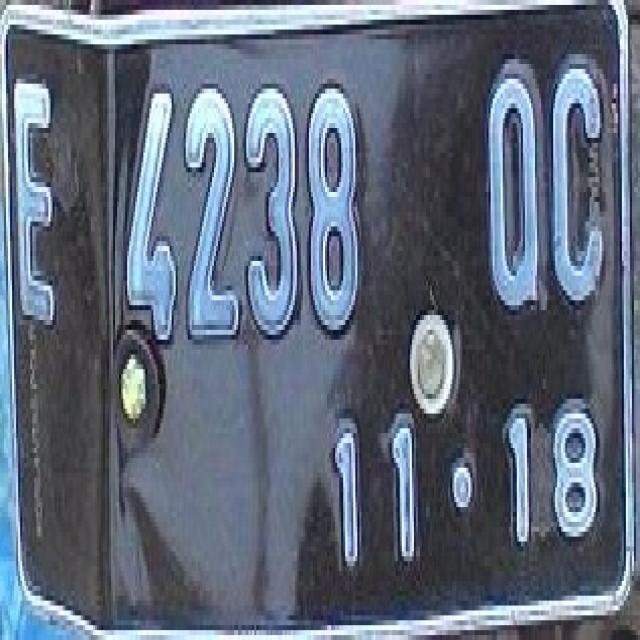plate: (0, 5, 630, 615)
